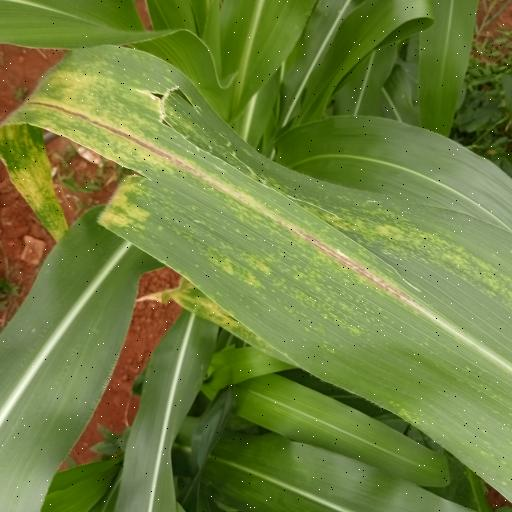Corn_Brown_Spots: (2, 38, 496, 414)
